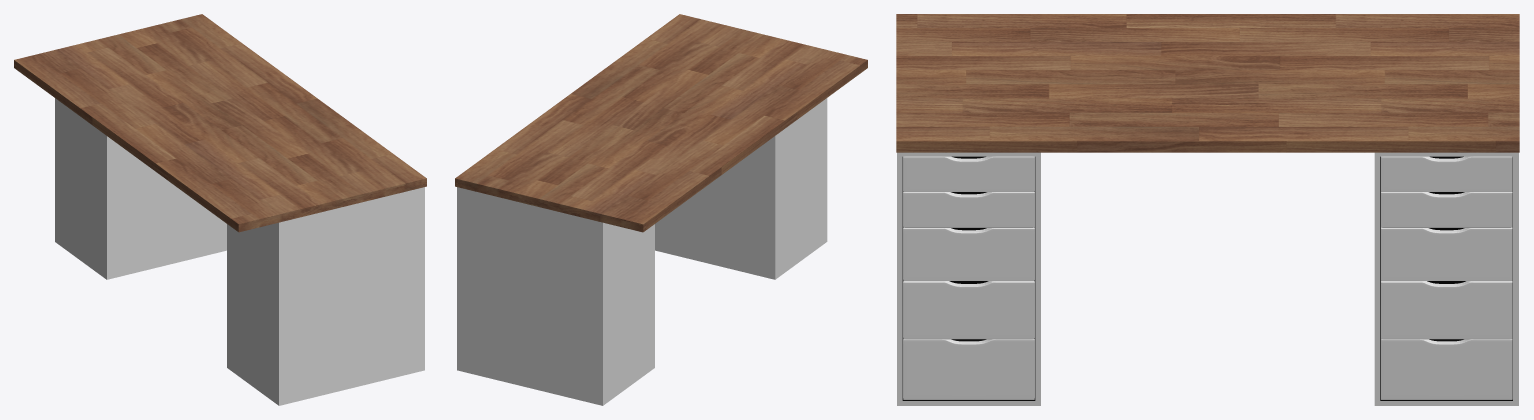
File: alex desk 61 30.glb
3 views of the same model, side by side, from view 1: azimuth 30°, elevation 25°; view 2: azimuth 150°, elevation 25°; view 3: azimuth 270°, elevation 25° (orthographic). The views are drawn at different scales.
Parts seen in each view (by area): view 1: Plane, Cube, Cube.001; view 2: Plane, Cube.001, Cube; view 3: Plane, Cube.001, Cube.
Part boxes in pixels (bbox=[...]): Plane: bbox=[14, 14, 426, 232]; Cube: bbox=[227, 187, 424, 405]; Cube.001: bbox=[55, 98, 226, 279]; Plane: bbox=[455, 14, 867, 232]; Cube.001: bbox=[457, 187, 654, 405]; Cube: bbox=[655, 98, 827, 279]; Plane: bbox=[896, 14, 1519, 152]; Cube.001: bbox=[1374, 152, 1518, 405]; Cube: bbox=[897, 152, 1040, 405].
Bounding box in the file's own units: 29.5 × 28.71 × 61.
Materials: 3 (1 with a texture image).
